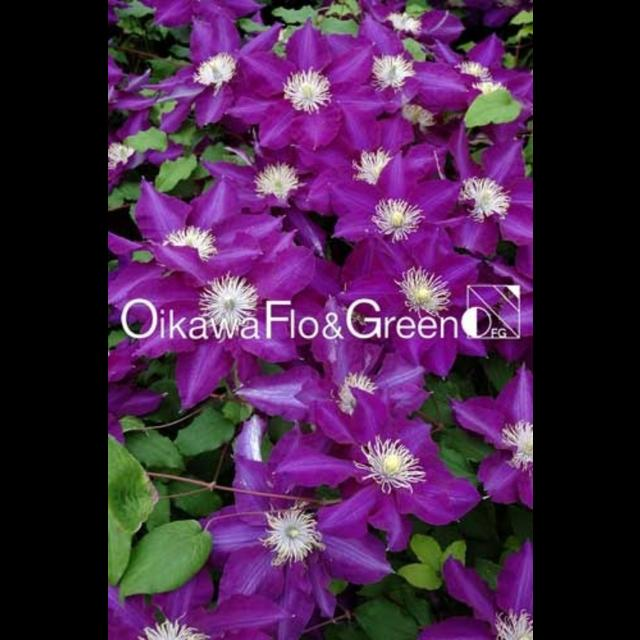Flower: (109, 0, 532, 638), (352, 436, 432, 504)
